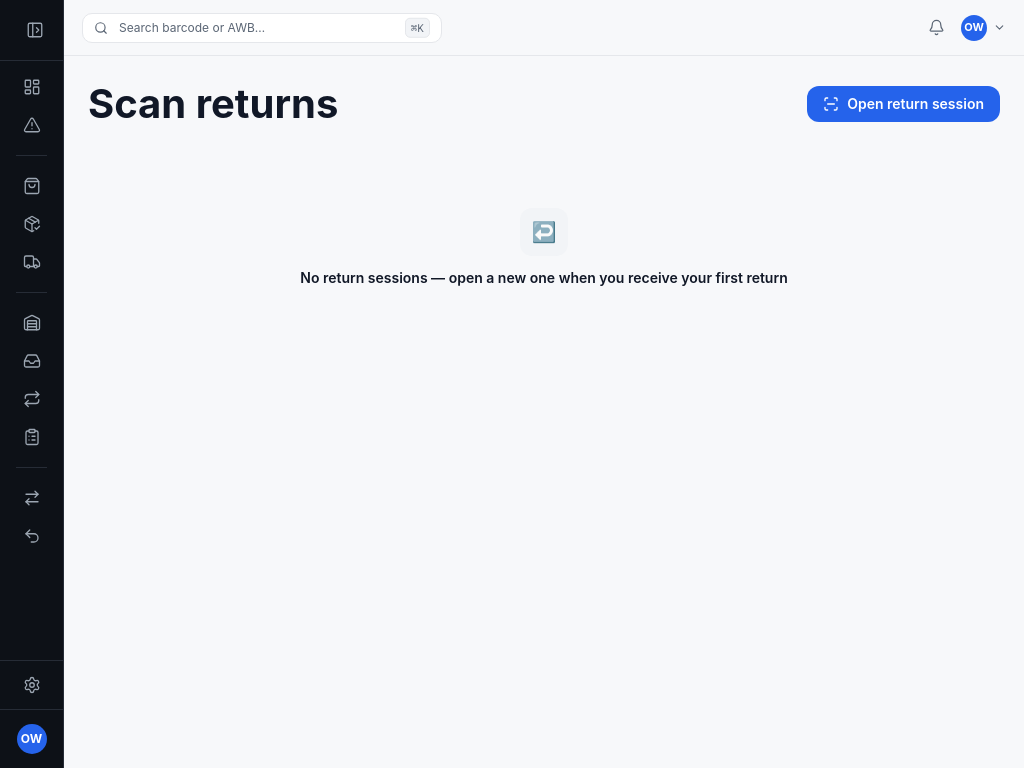
Test: R1 Scan returns › rj2 a non-422 error shows its message; a 422 shows the rejected-scan toast with the cleaned code
The image size is (1024, 768).
Click the button with test id "open-session-button": (904, 104) [807, 86, 1000, 122]
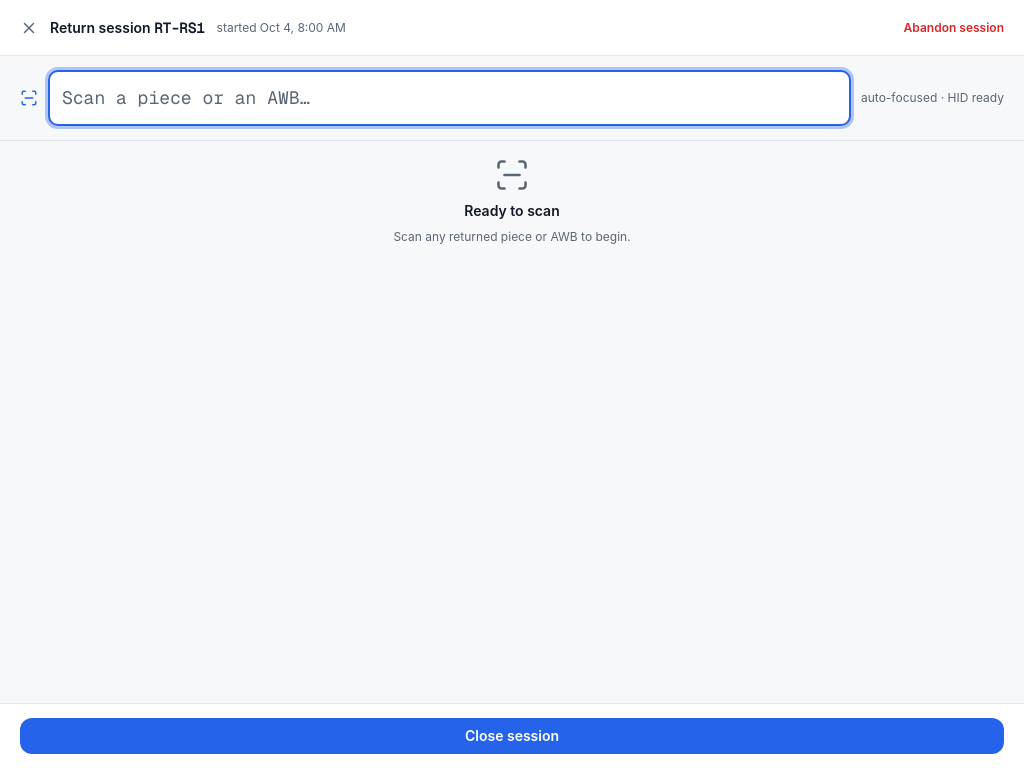
In the field with test id "scan-input": (450, 98) [48, 70, 851, 126], type "BAD"
Then press Enter
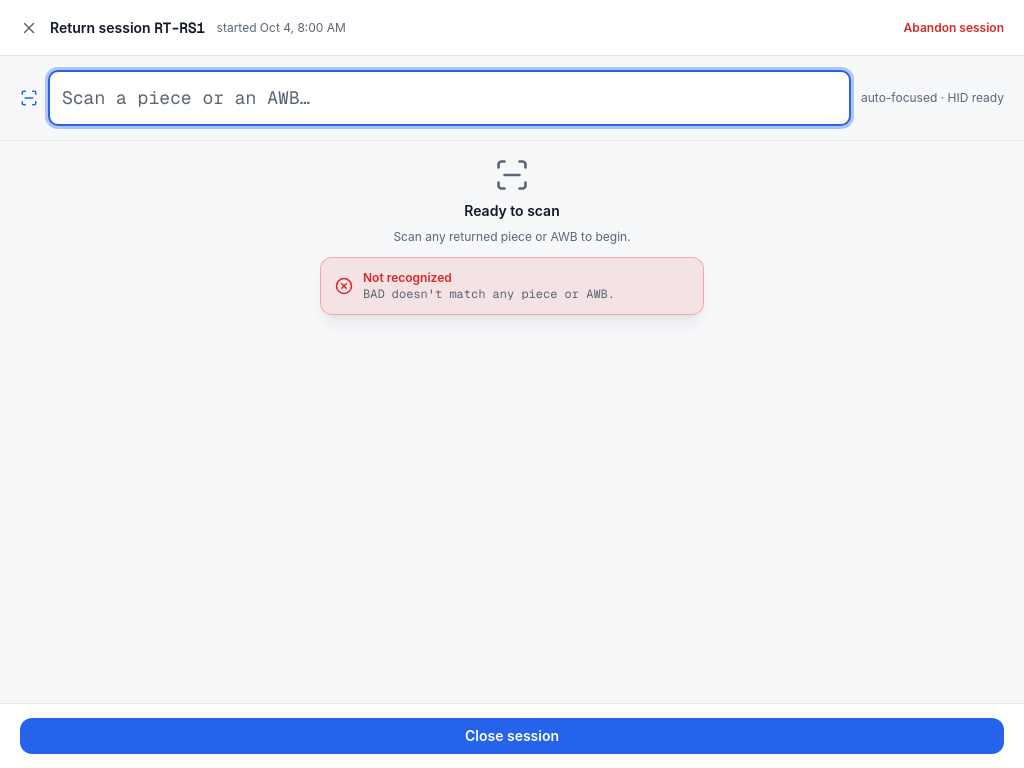
Result: the element with test id "rejected-scan-toast" shows "BAD" at [363, 286, 615, 302]
In the field with test id "scan-input": (450, 98) [48, 70, 851, 126], type "OTHER"
Then press Enter
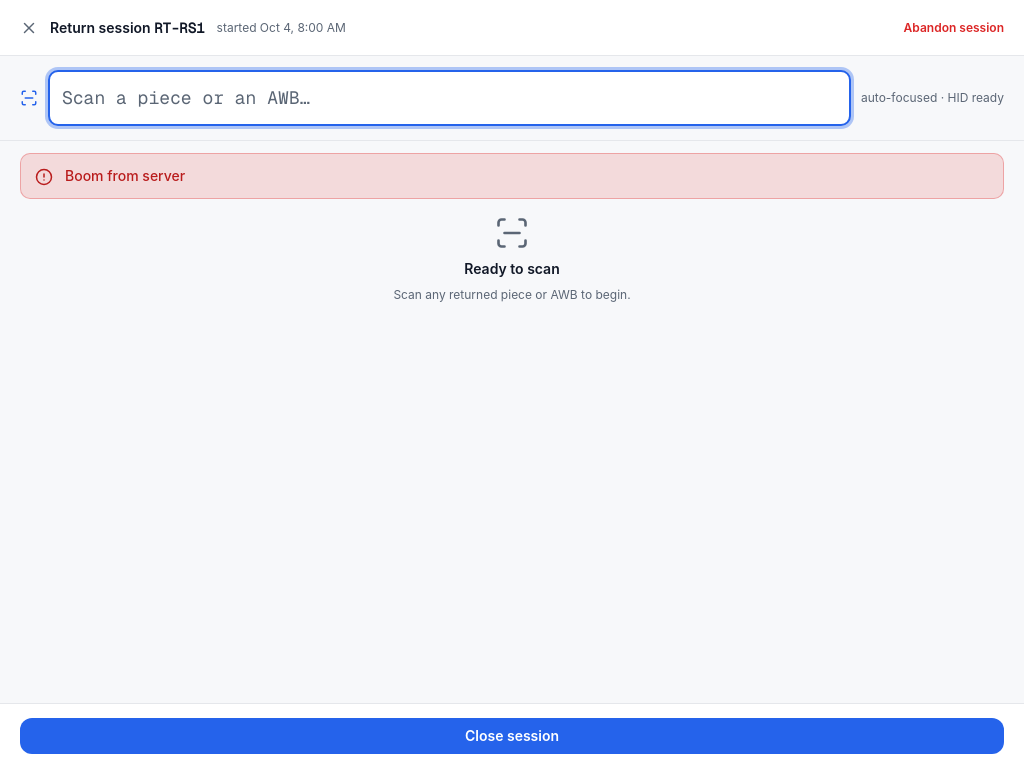
Result: the field with test id "scan-input" is enabled at [48, 70, 851, 126]
Result: the text "Boom from server" is shown at [65, 167, 185, 184]
